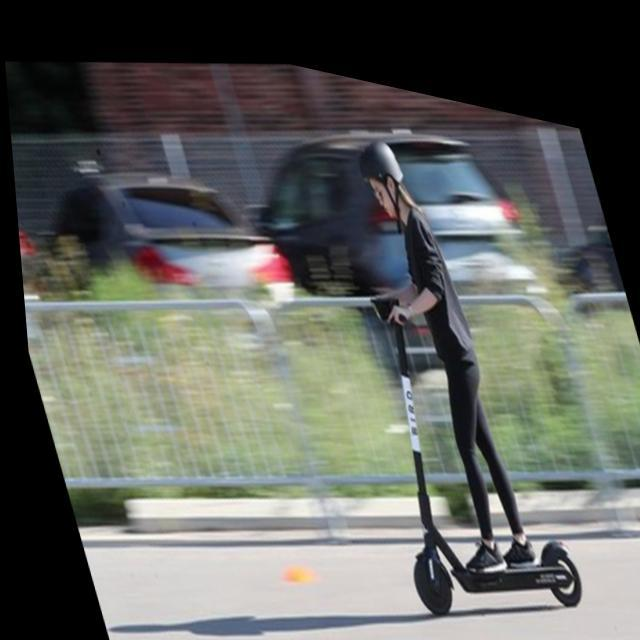Helmet: (350, 136, 414, 230)
